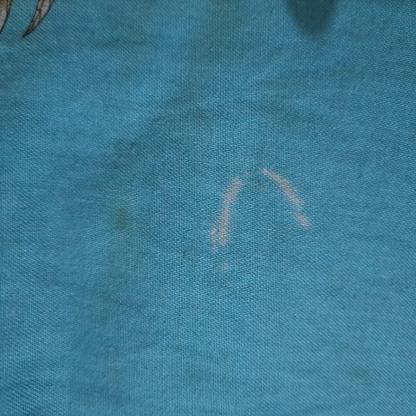spot: (113, 179, 137, 245)
